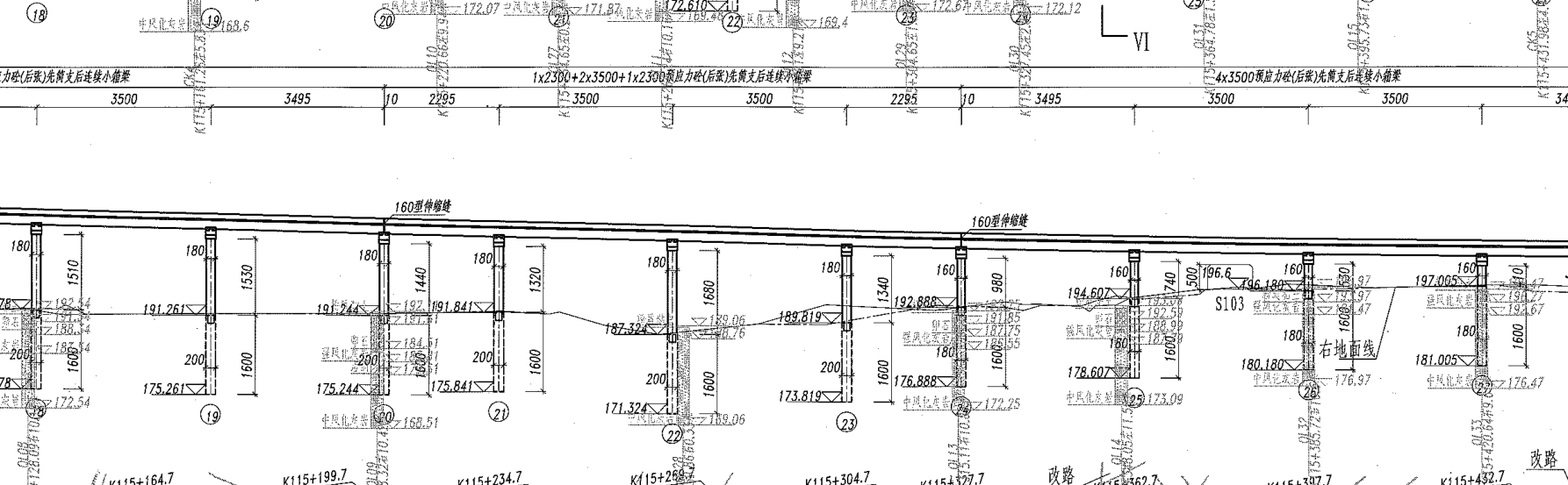B: (669, 55, 1567, 98)
C: (598, 233, 690, 448), (137, 221, 229, 432), (773, 238, 867, 438), (312, 226, 400, 429), (433, 228, 518, 428), (1063, 243, 1152, 412), (1237, 246, 1326, 406), (900, 240, 978, 420), (1412, 246, 1498, 402), (0, 217, 52, 423)
